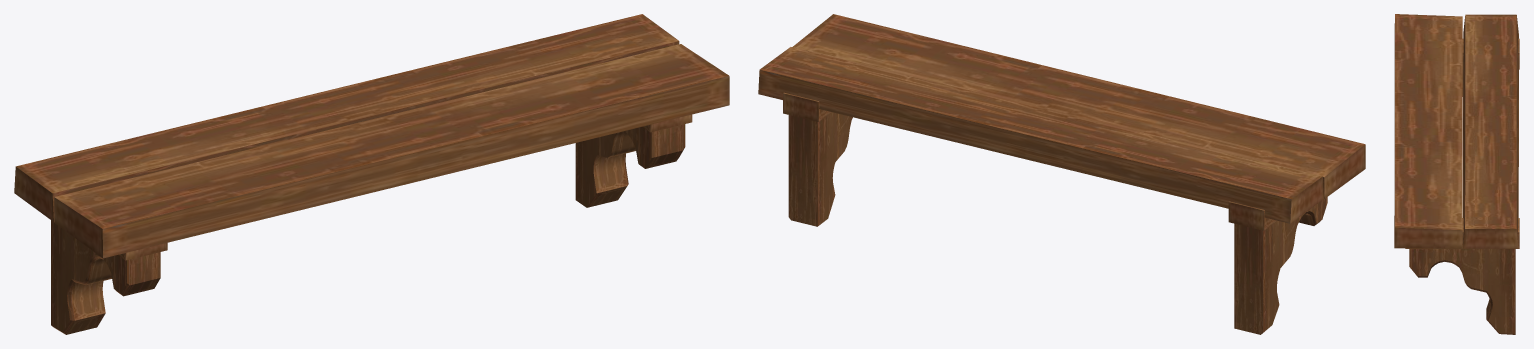
Rendered from quaternius-fantasy-props-shelf-simple.glb.
3 views of the same model, side by side, from view 1: azimuth 30°, elevation 25°; view 2: azimuth 150°, elevation 25°; view 3: azimuth 270°, elevation 25° (orthographic). The views are drawn at different scales.
Visible parts, largest first — view 1: Shelf_Simple; view 2: Shelf_Simple; view 3: Shelf_Simple.
Part boxes in pixels (left/top/right/bottom): Shelf_Simple: left=14, top=14, right=729, bottom=334; Shelf_Simple: left=758, top=14, right=1365, bottom=334; Shelf_Simple: left=1394, top=14, right=1519, bottom=334.
Bounding box in the file's own units: 1.5 × 0.3912 × 0.3703.
1 material, 1 textured.
